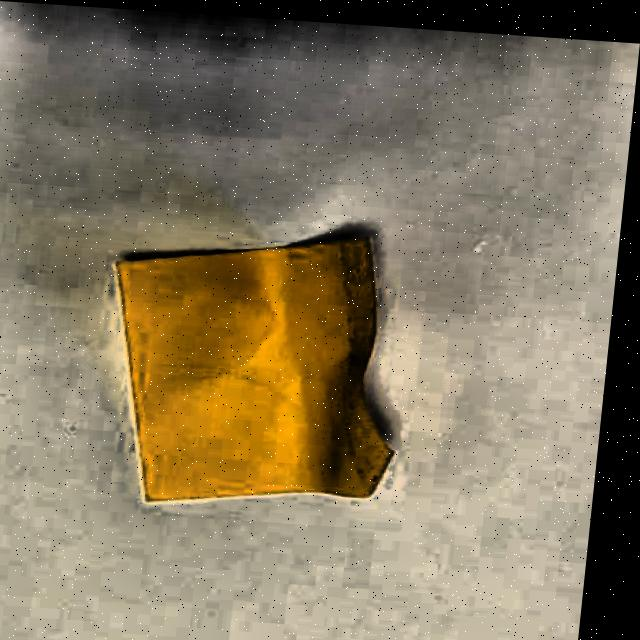paper: (88, 219, 417, 519)
